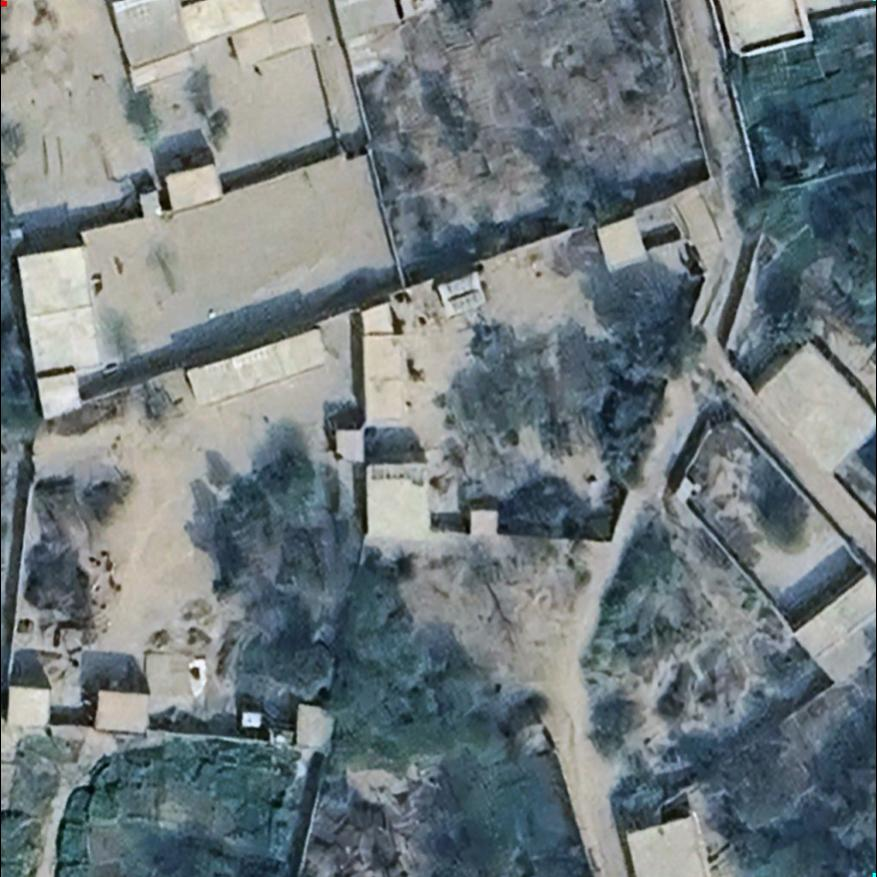Solarpanel: (439, 270, 484, 316), (369, 463, 425, 485)
